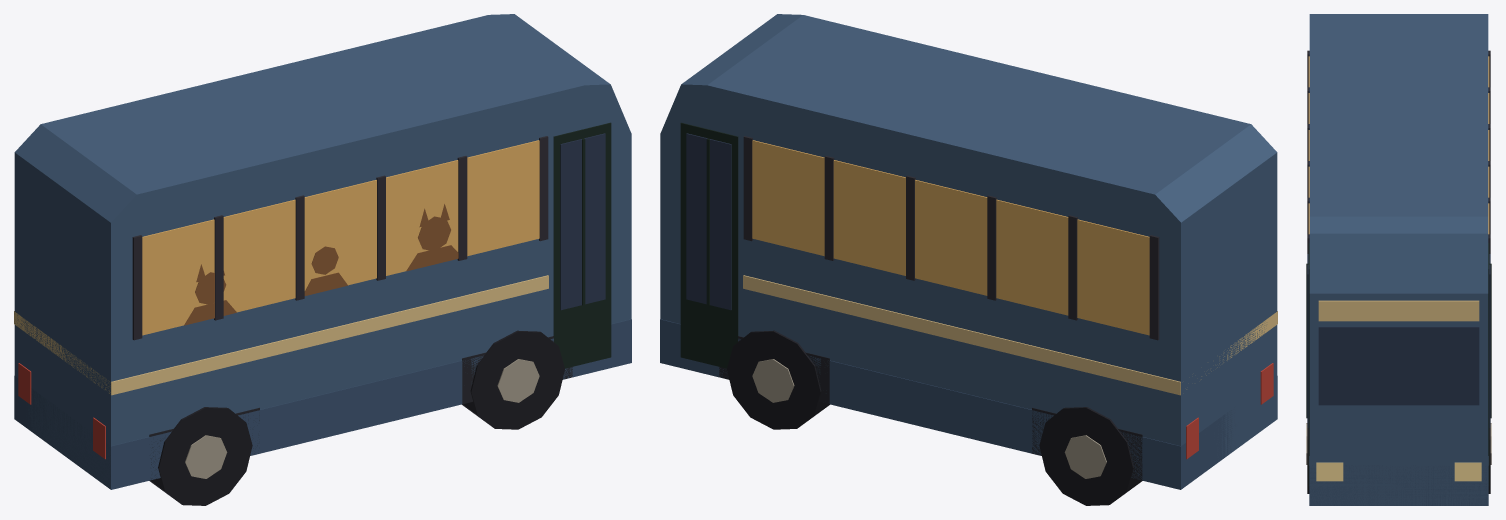
The model's file is coach.glb.
3 views of the same model, side by side, from view 1: azimuth 30°, elevation 25°; view 2: azimuth 150°, elevation 25°; view 3: azimuth 270°, elevation 25° (orthographic). The views are drawn at different scales.
Visible parts, largest first — view 1: coach; view 2: coach; view 3: coach.
Part boxes in pixels (box(x1,y1,x2,y2)): coach: box(14, 14, 631, 505); coach: box(660, 14, 1277, 505); coach: box(1306, 14, 1491, 505).
Bounding box in the file's own units: 5.02 × 3 × 1.66.
